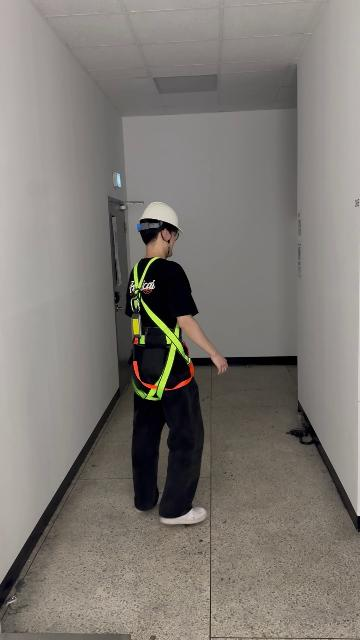helmet_worn: (138, 200, 185, 233)
shoe_not_worn: (161, 506, 208, 525), (134, 494, 161, 512)
vest_worn: (128, 261, 193, 397)
